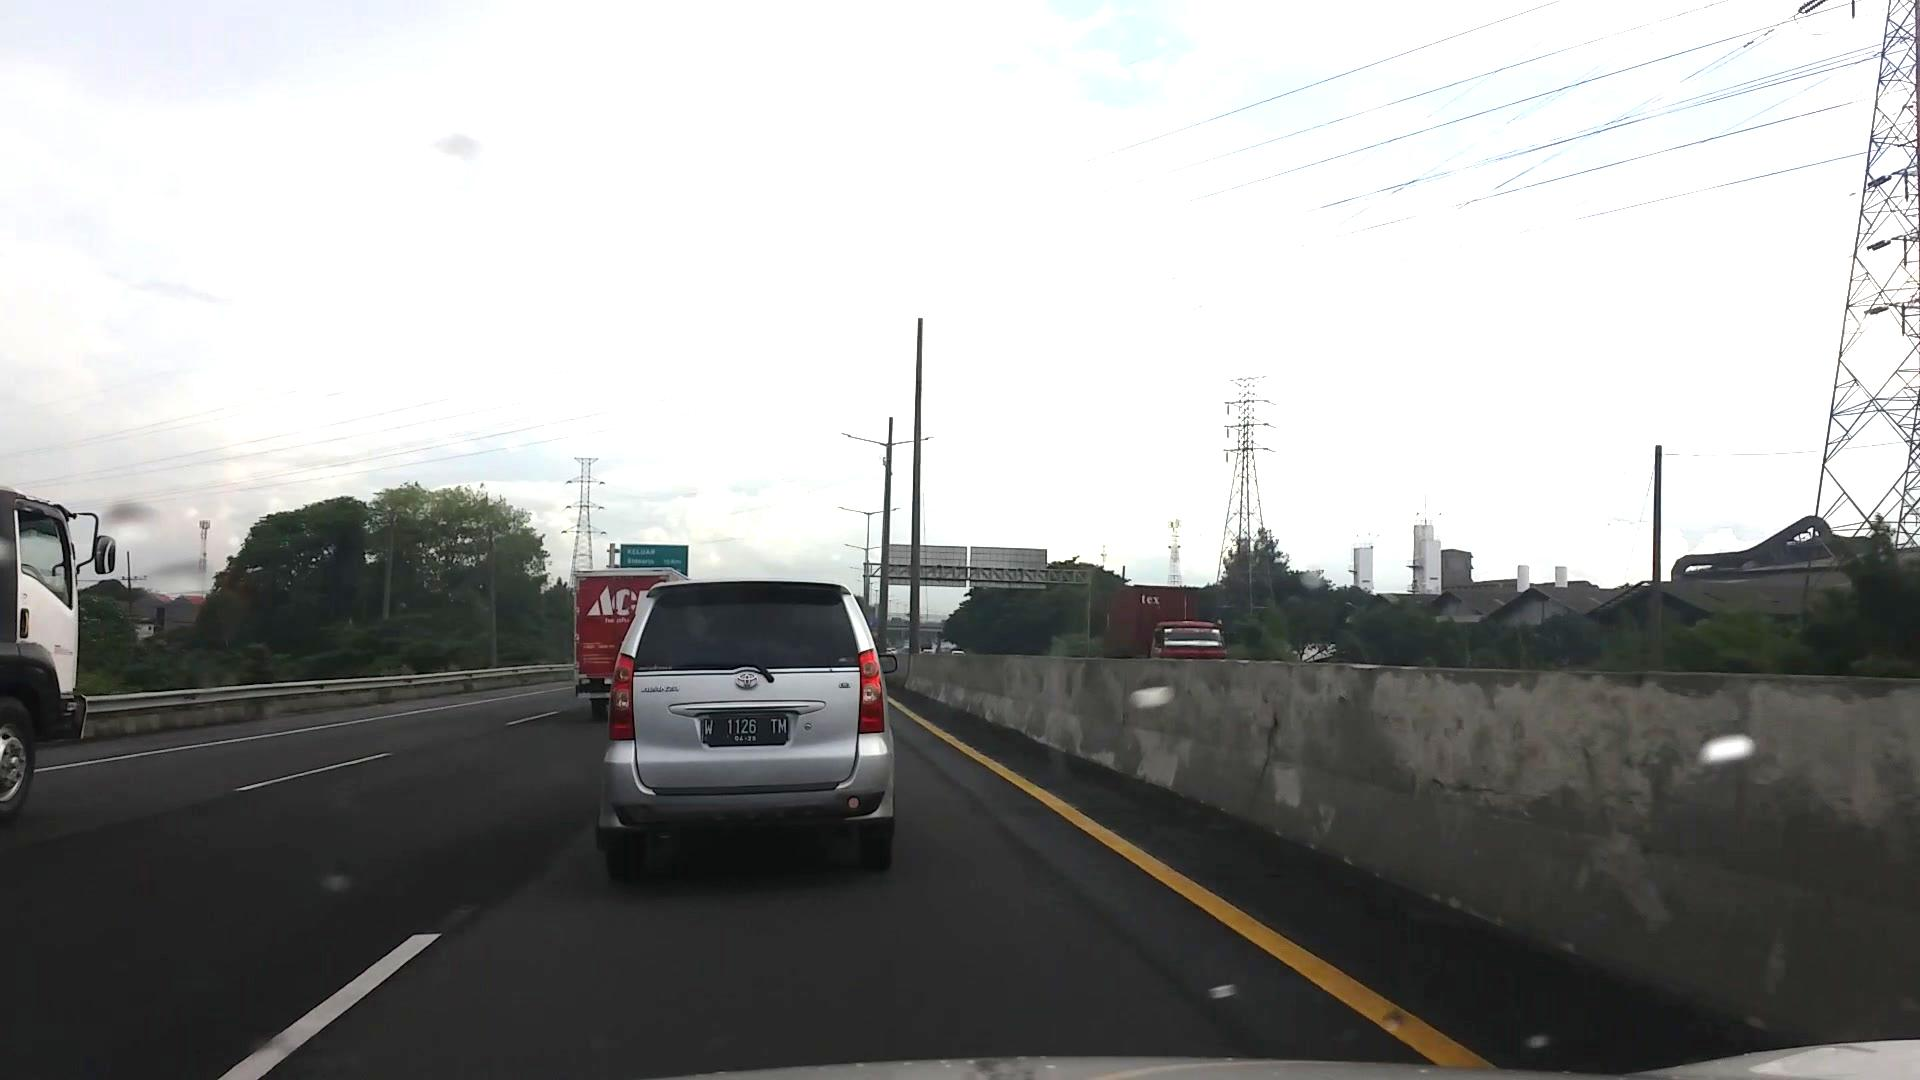plate_positive: (702, 716, 789, 745)
